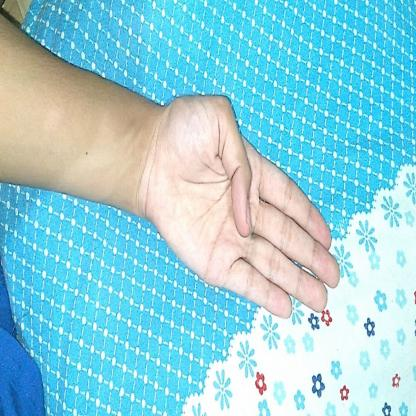hand: (0, 13, 343, 327)
